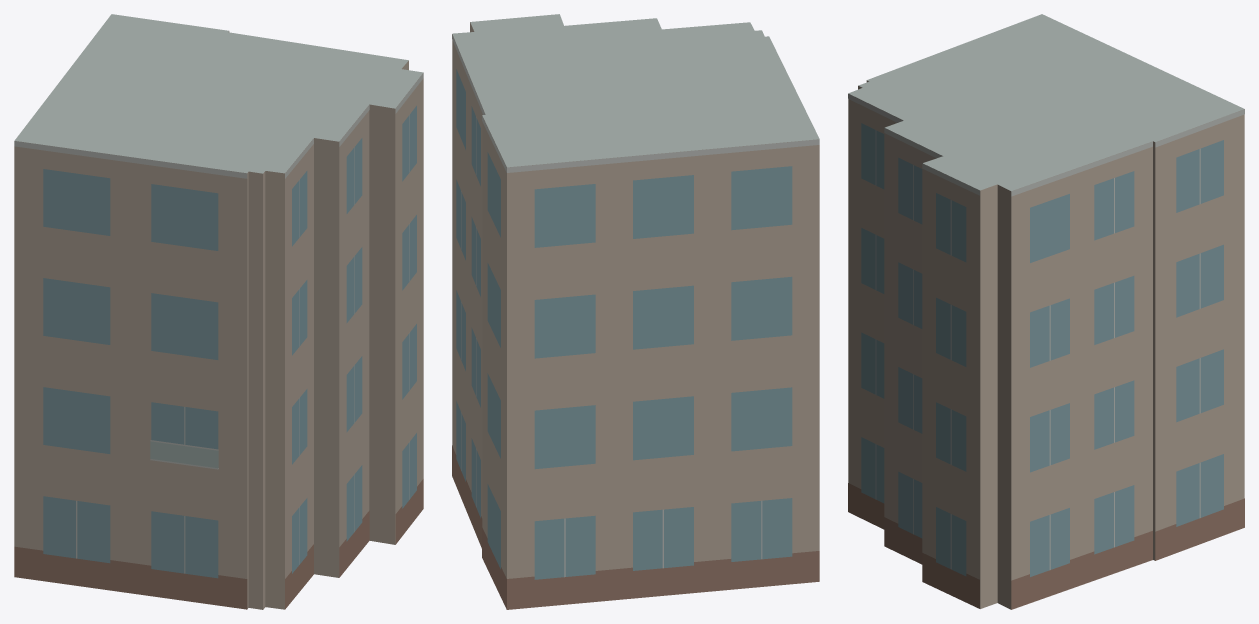
File: survey-upis-32926496.glb
3 views of the same model, side by side, from view 1: azimuth 30°, elevation 25°; view 2: azimuth 150°, elevation 25°; view 3: azimuth 270°, elevation 25° (orthographic). The views are drawn at different scales.
Parts seen in each view (by area): view 1: survey-upis-32926496.tmp; view 2: survey-upis-32926496.tmp; view 3: survey-upis-32926496.tmp.
Part boxes in pixels (box(x1,y1,x2,y2)): survey-upis-32926496.tmp: box(14, 14, 423, 609); survey-upis-32926496.tmp: box(452, 14, 819, 609); survey-upis-32926496.tmp: box(848, 14, 1244, 609).
Size of the model in its own units: 17.26 by 19 by 16.32.
